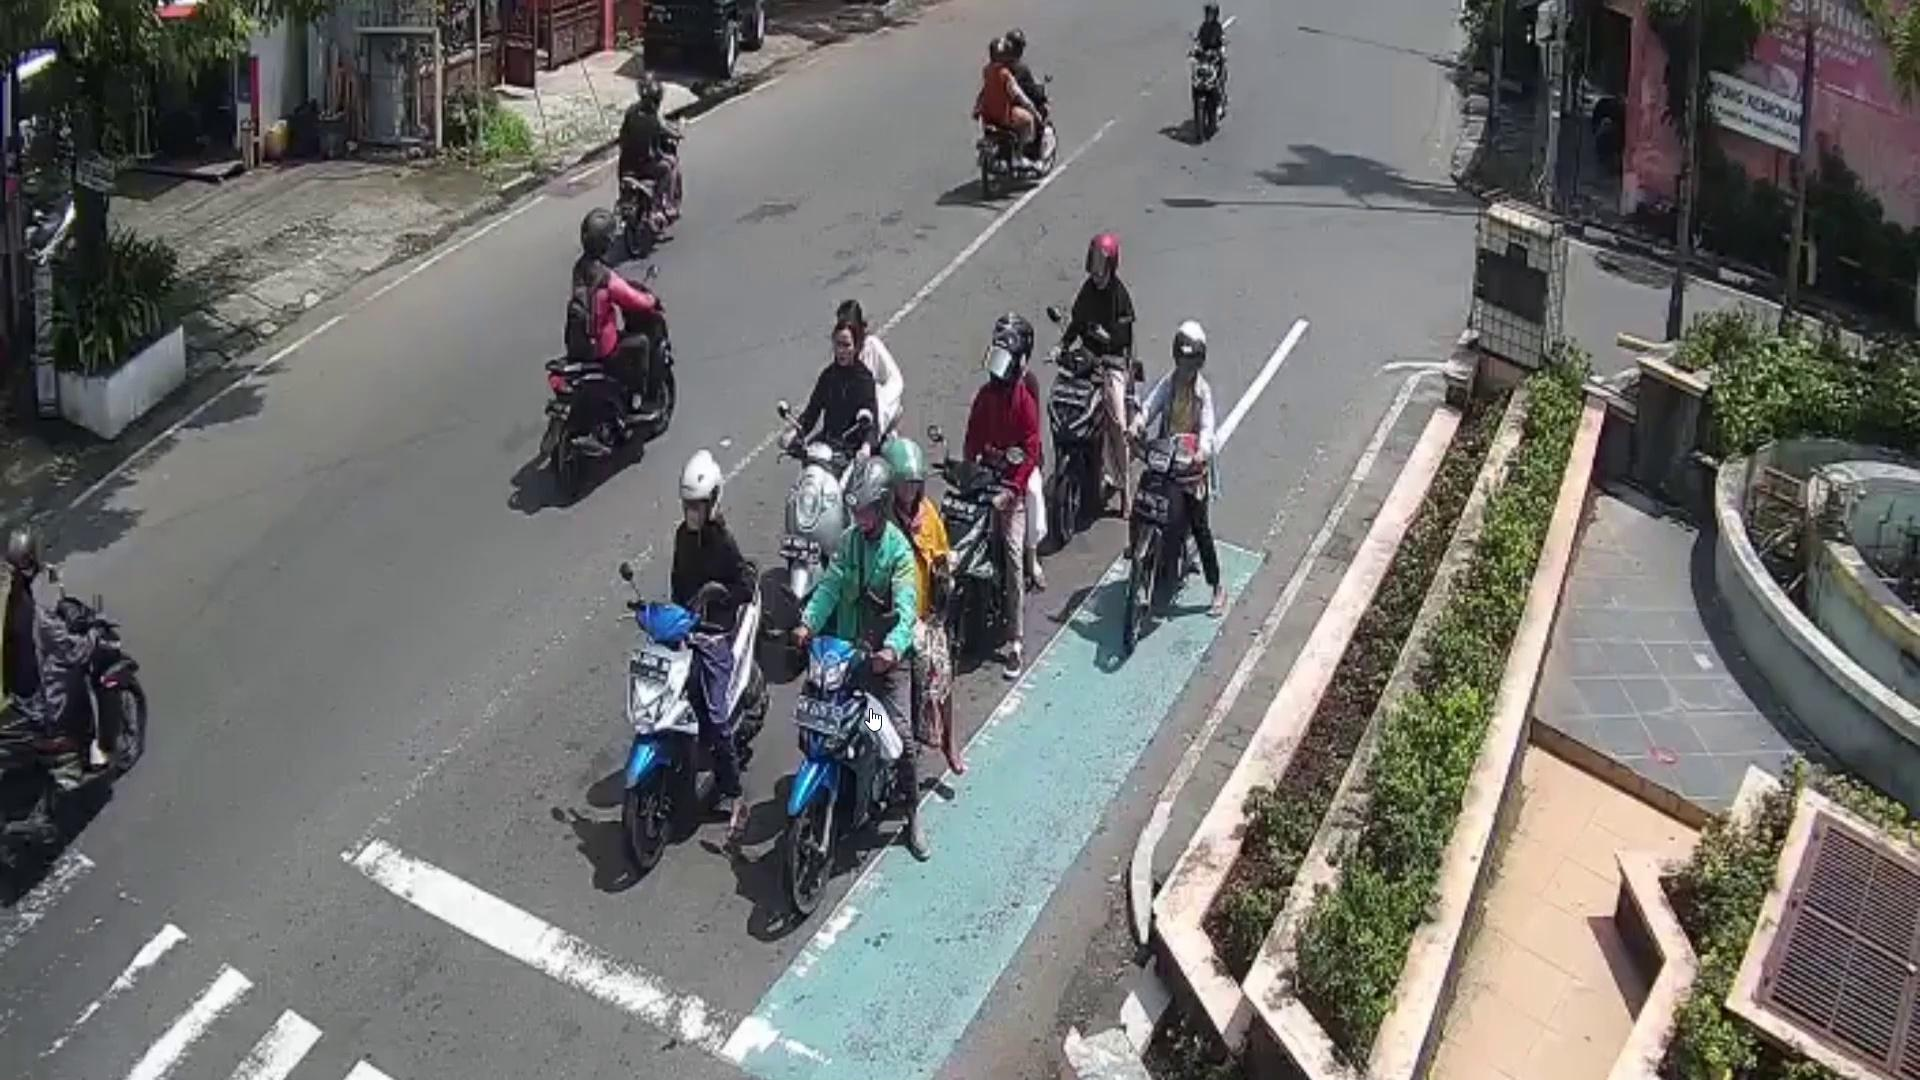motorbike: (616, 550, 777, 872), (781, 588, 923, 922), (0, 599, 150, 880), (541, 280, 680, 504), (793, 425, 909, 585), (1052, 345, 1145, 541), (924, 459, 1009, 665), (1124, 442, 1200, 651), (975, 78, 1054, 202), (615, 121, 686, 257), (1189, 44, 1229, 148)
